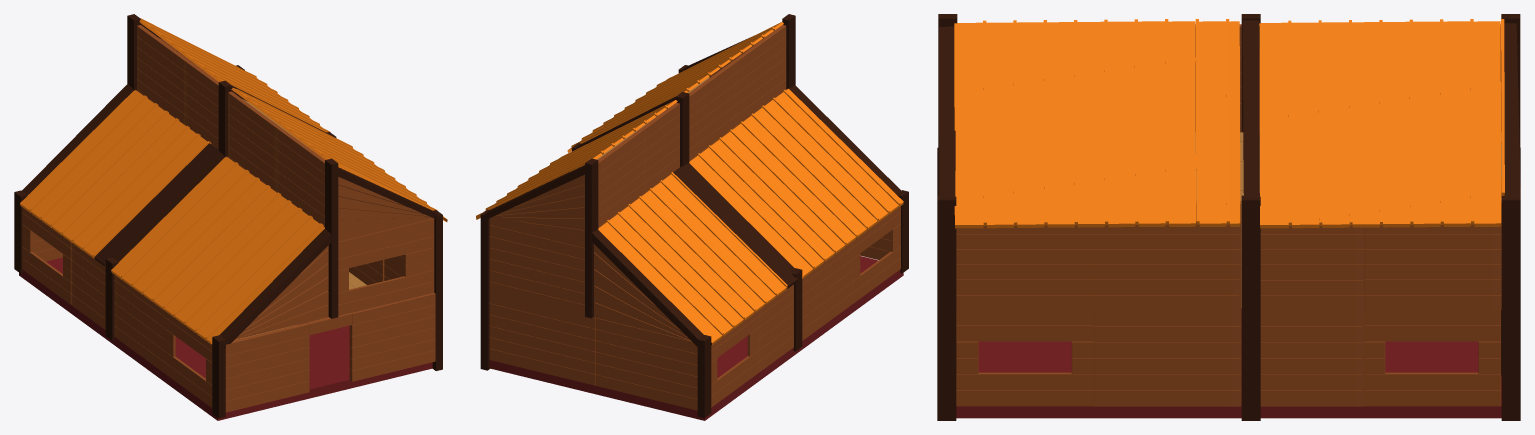
Rendered from CeleiroUpside.fbx.
3 renders of one model, left to right at view 1: azimuth 30°, elevation 25°; view 2: azimuth 150°, elevation 25°; view 3: azimuth 270°, elevation 25°, orthographic. The views are drawn at different scales.
Visible parts, largest first — view 1: Cube.023, Cube.022, base, paredeNormal, paredeNormal.006, Plane.009, Cube.010, Cube.024, paredeNormal.042, paredeNormal.025, paredeNormal.041, paredeNormal.012 (+25 smaller); view 2: Cube.023, Cube.022, paredeNormal.029, paredeNormal.026, paredeNormal.027, base, Cube.010, Plane.010, paredeNormal.042, paredeNormal.012, paredeNormal.025, paredeNormal.041 (+20 smaller); view 3: Cube.024, Cube.025, paredeNormal.014, base, paredeNormal.021, paredeNormal.024, paredeNormal.023, paredeNormal.015, paredeNormal.022, paredeNormal.035, paredeNormal.016, Cube.004 (+14 smaller).
Boxes of the visible parts, x1,y1,x2,y2 form: Cube.023: [111, 156, 324, 344]; Cube.022: [20, 90, 211, 258]; base: [19, 257, 432, 420]; paredeNormal: [349, 293, 435, 381]; paredeNormal.006: [225, 322, 309, 412]; Plane.009: [235, 245, 328, 339]; Cube.010: [20, 84, 218, 266]; Cube.024: [231, 87, 447, 221]; paredeNormal.042: [276, 126, 324, 227]; paredeNormal.025: [137, 25, 188, 124]; paredeNormal.041: [228, 91, 279, 191]; paredeNormal.012: [114, 275, 165, 373]; Cube.023: [689, 88, 903, 278]; Cube.022: [598, 172, 787, 344]; paredeNormal.029: [489, 215, 584, 315]; paredeNormal.026: [489, 292, 595, 385]; paredeNormal.027: [596, 318, 697, 410]; base: [490, 256, 903, 420]; Cube.010: [592, 166, 797, 346]; Plane.010: [594, 244, 690, 340]; paredeNormal.042: [731, 25, 786, 127]; paredeNormal.012: [802, 242, 852, 340]; paredeNormal.025: [598, 129, 643, 227]; paredeNormal.041: [689, 62, 734, 161]; Cube.024: [954, 19, 1240, 228]; Cube.025: [1259, 19, 1504, 228]; paredeNormal.014: [1093, 310, 1241, 406]; base: [956, 309, 1501, 418]; paredeNormal.021: [1094, 201, 1241, 309]; paredeNormal.024: [1364, 201, 1501, 309]; paredeNormal.023: [956, 225, 1094, 309]; paredeNormal.015: [1260, 310, 1364, 406]; paredeNormal.022: [1260, 225, 1364, 309]; paredeNormal.035: [1362, 372, 1500, 406]; paredeNormal.016: [956, 372, 1093, 406]; Cube.004: [1501, 196, 1520, 420].
Bounding box in the file's own units: 1291 × 1203 × 1929.
